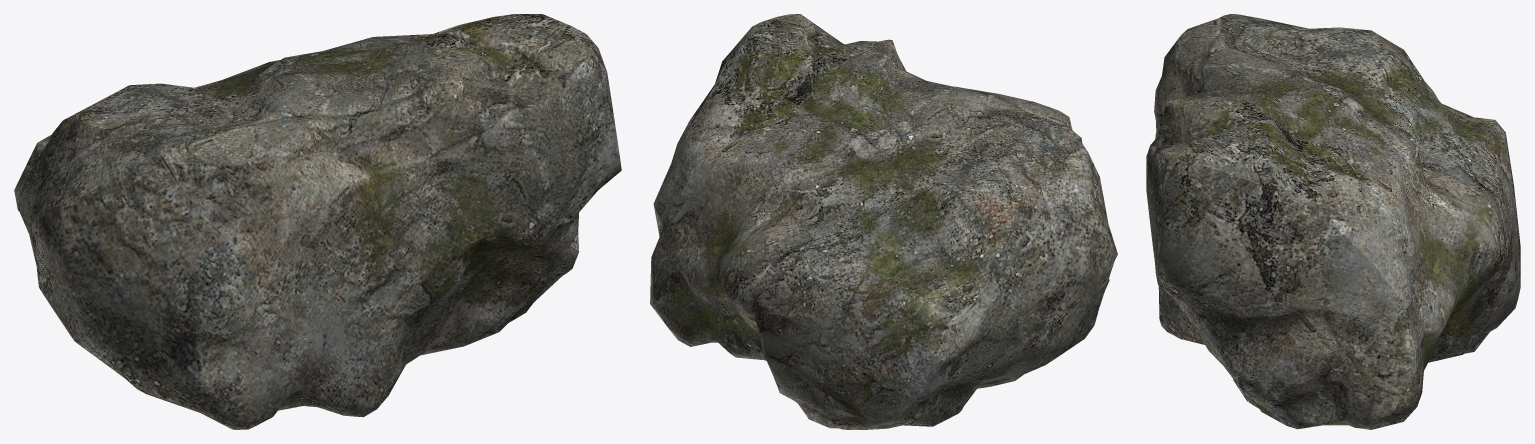
Rendered from Rock04.FBX.
The picture shows the model from 3 angles, left to right: view 1: azimuth 30°, elevation 25°; view 2: azimuth 150°, elevation 25°; view 3: azimuth 270°, elevation 25°; orthographic projection. The views are drawn at different scales.
Visible parts, largest first — view 1: LV_TurtleLake_Rock_LakeRock01_SM_EYE; view 2: LV_TurtleLake_Rock_LakeRock01_SM_EYE; view 3: LV_TurtleLake_Rock_LakeRock01_SM_EYE.
Part boxes in pixels (bbox=[...]): LV_TurtleLake_Rock_LakeRock01_SM_EYE: bbox=[14, 14, 621, 429]; LV_TurtleLake_Rock_LakeRock01_SM_EYE: bbox=[650, 14, 1117, 429]; LV_TurtleLake_Rock_LakeRock01_SM_EYE: bbox=[1146, 14, 1520, 429].
Size of the model in its own units: 108 by 68.86 by 79.24.
